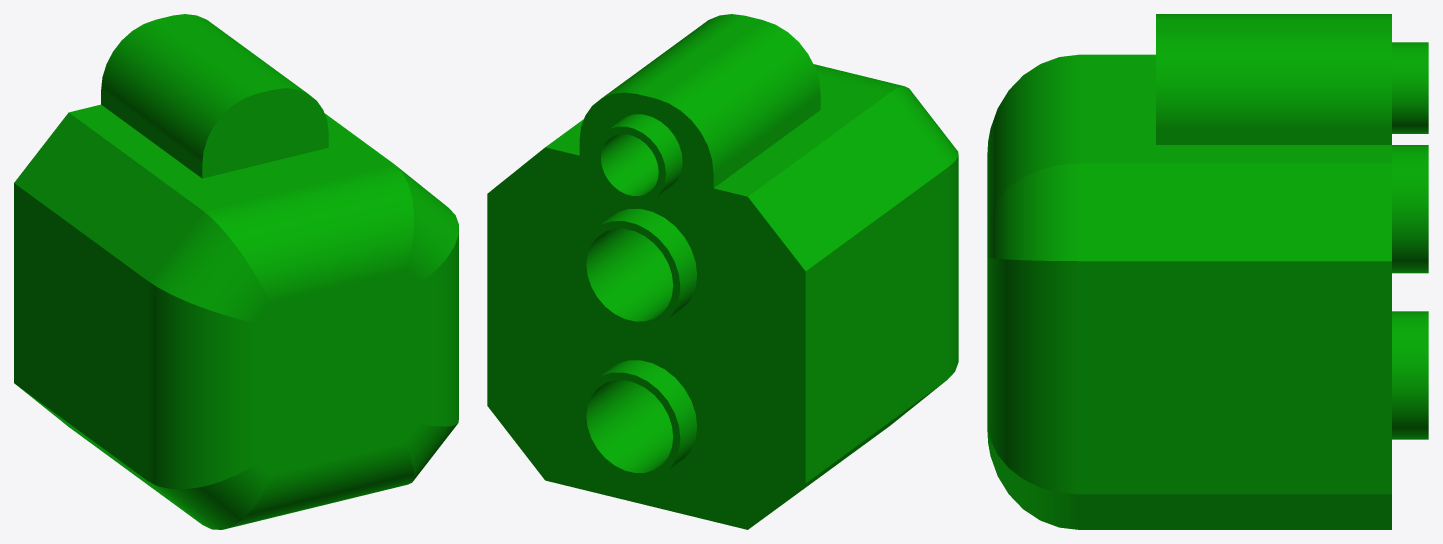
File: cutemark-Head.gltf
3 views of the same model, side by side, from view 1: azimuth 30°, elevation 25°; view 2: azimuth 150°, elevation 25°; view 3: azimuth 270°, elevation 25° (orthographic). The views are drawn at different scales.
Parts seen in each view (by area): view 1: Head; view 2: Head; view 3: Head.
Boxes of the visible parts, x1=… form: Head: x1=14, y1=14, x2=458, y2=529; Head: x1=487, y1=14, x2=958, y2=529; Head: x1=987, y1=14, x2=1428, y2=529.
Bounding box in the file's own units: 0.022 × 0.027 × 0.024.
